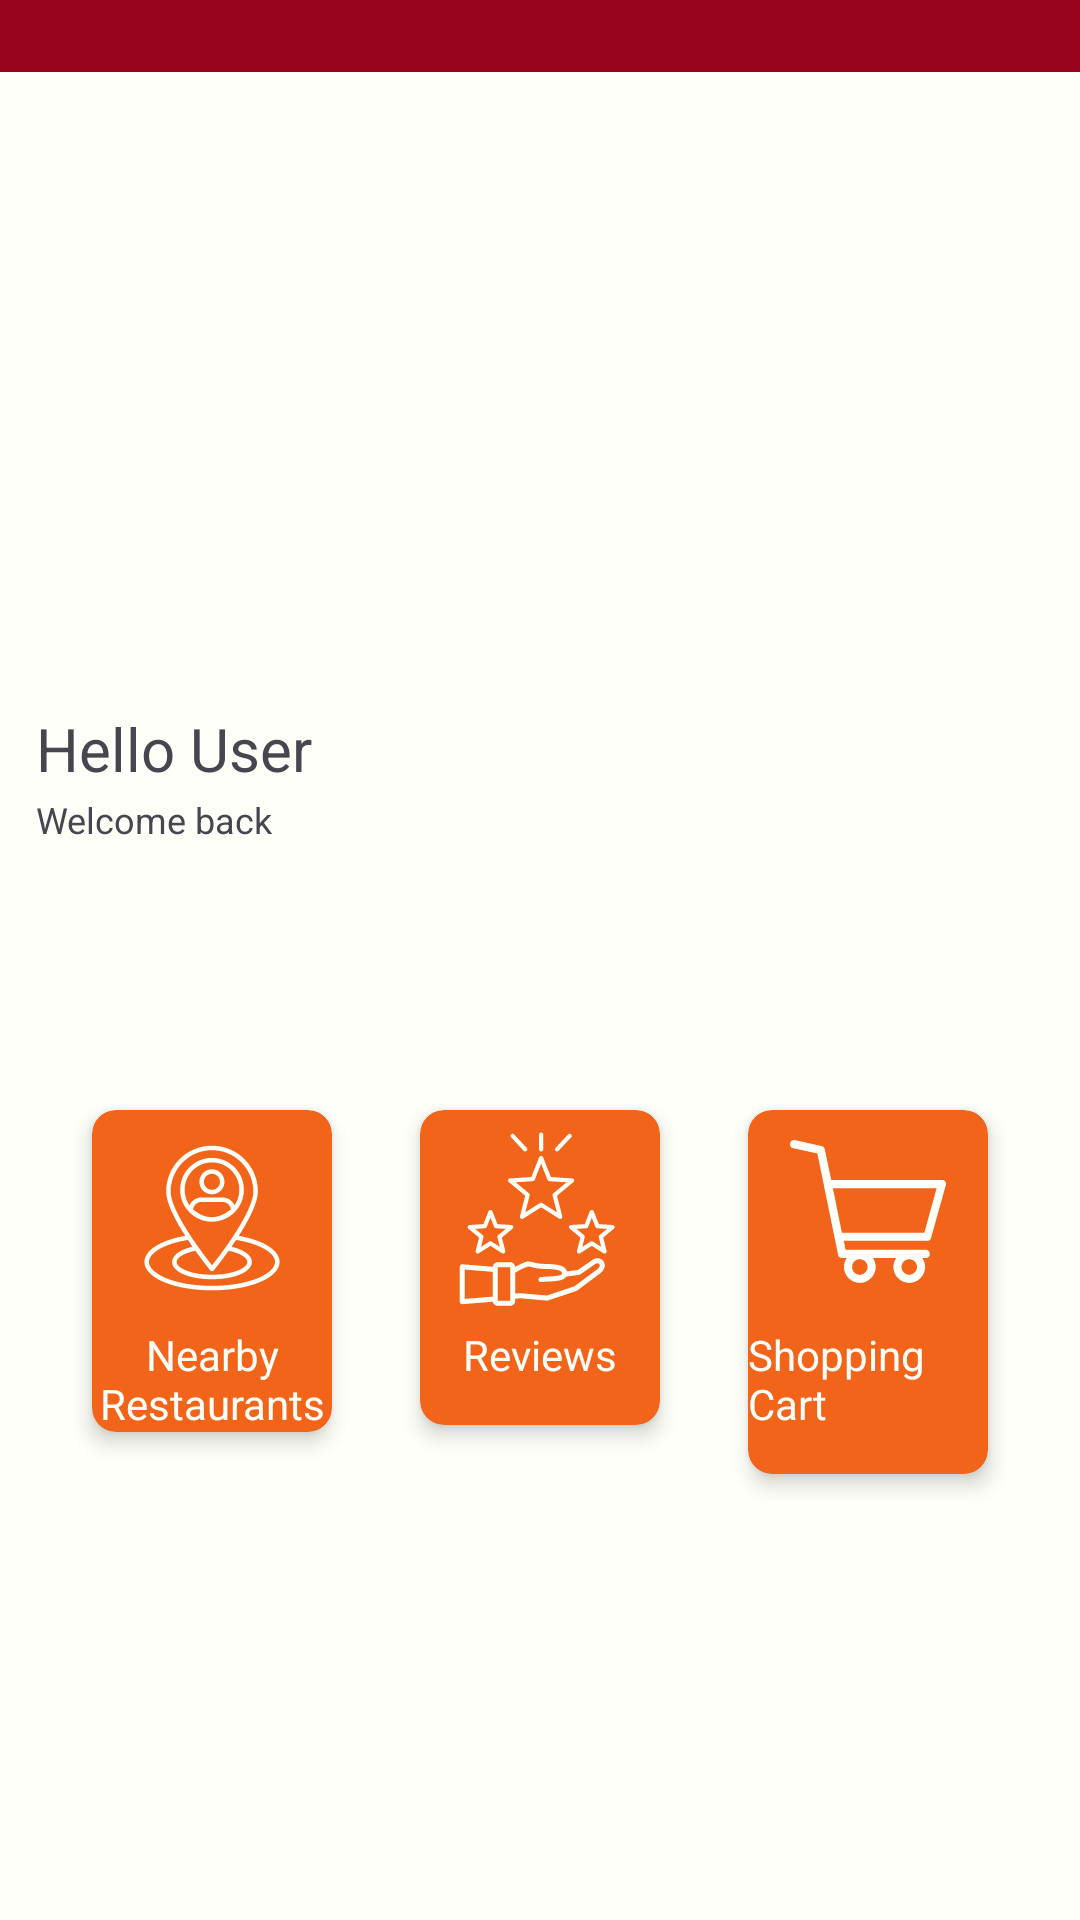

Named icons in this screenshot (1080w x 1920h) and their bounding boxes, [left=x1, top=y1, right=x2, bottom=y2]:
points: [left=459, top=1132, right=615, bottom=1306]
